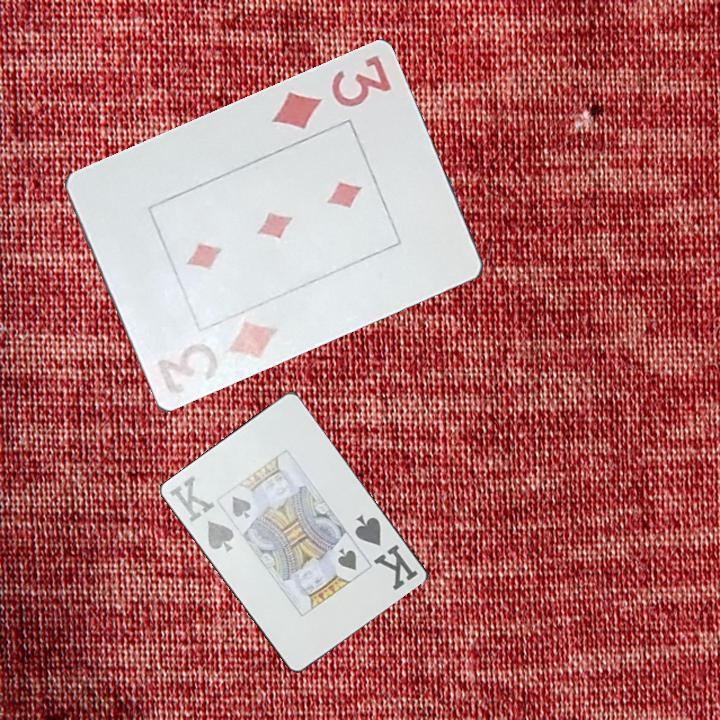3d: (147, 312, 281, 399), (268, 52, 395, 133)
Ks: (166, 472, 238, 554), (351, 510, 421, 594)
